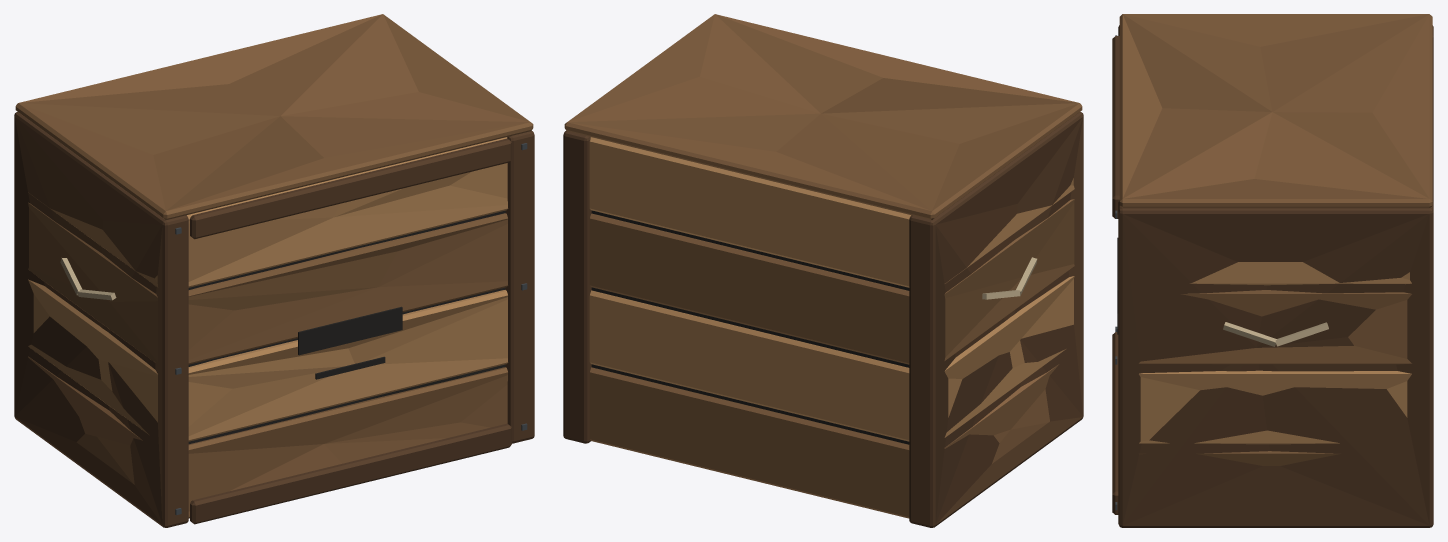
Rendered from crate_wood_bolshoy_idle.glb.
3 views of the same model, side by side, from view 1: azimuth 30°, elevation 25°; view 2: azimuth 150°, elevation 25°; view 3: azimuth 270°, elevation 25° (orthographic). The views are drawn at different scales.
Visible parts, largest first — view 1: crate_wood_bolshoy_idle; view 2: crate_wood_bolshoy_idle; view 3: crate_wood_bolshoy_idle.
Part boxes in pixels (<box>): crate_wood_bolshoy_idle: <box>14,14,534,527</box>; crate_wood_bolshoy_idle: <box>563,14,1083,527</box>; crate_wood_bolshoy_idle: <box>1112,14,1433,527</box>.
Size of the model in its own units: 0.9135 by 0.7 by 0.62.
1 material, 1 textured.
